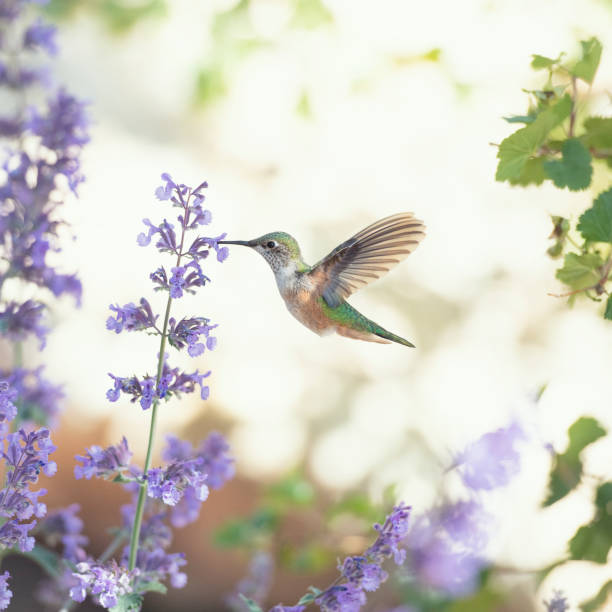Bird: (212, 204, 427, 353)
